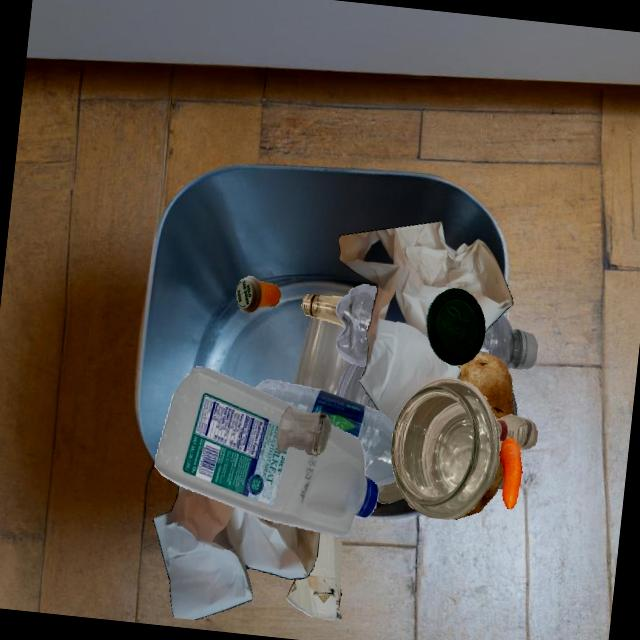biowaste: (457, 379, 499, 502), (456, 352, 513, 419), (499, 437, 522, 509)
cardboard: (285, 532, 343, 619)
glass: (390, 377, 500, 519), (295, 316, 349, 395), (276, 406, 331, 455), (496, 414, 537, 450), (301, 294, 343, 327), (376, 480, 404, 503)
paper: (338, 221, 512, 426), (153, 485, 320, 620)
plastic: (154, 366, 378, 536), (365, 367, 513, 475), (255, 379, 395, 486), (426, 288, 484, 364), (335, 284, 376, 367), (477, 313, 537, 369), (336, 362, 378, 410), (236, 276, 280, 312), (349, 362, 349, 363)
